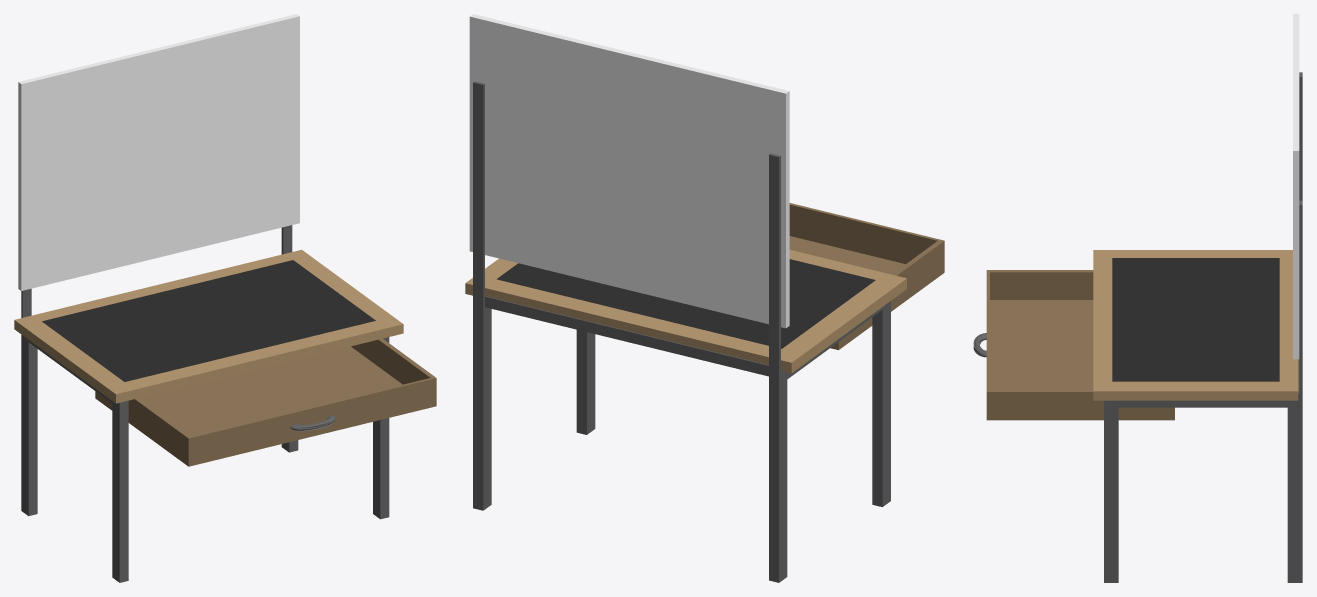
File: Workbench.fbx
3 renders of one model, left to right at view 1: azimuth 30°, elevation 25°; view 2: azimuth 150°, elevation 25°; view 3: azimuth 270°, elevation 25°, orthographic. The views are drawn at different scales.
Visible parts, largest first — view 1: Cube.003, Cube.004, Plane, Cube, Cube.002, Cube.001; view 2: Cube.003, Cube, Plane, Cube.002, Cube.004, Cube.001, Plane.003, Plane.002, Plane.001; view 3: Plane, Cube.004, Cube, Cube.001, Cube.003, Plane.002, Plane.001.
Boxes of the visible parts, x1,y1,x2,y2 form: Cube.003: (18,14,299,290); Cube.004: (95,338,436,466); Plane: (42,260,375,381); Cube: (14,249,403,403); Cube.002: (21,334,128,582); Cube.001: (281,337,389,519); Cube.003: (469,14,789,328); Cube: (465,250,906,373); Plane: (497,259,875,348); Cube.002: (769,301,890,582); Cube.004: (789,203,944,350); Cube.001: (473,295,595,510); Plane.003: (485,296,768,376); Plane.002: (473,81,484,298); Plane.001: (769,153,780,370); Plane: (1112,258,1279,381); Cube.004: (973,270,1174,420); Cube: (1093,250,1298,400); Cube.001: (1104,389,1302,582); Cube.003: (1293,14,1299,359); Plane.002: (1299,200,1302,394); Plane.001: (1299,72,1302,200).
Bounding box in the file's own units: 320 × 458 × 315.
